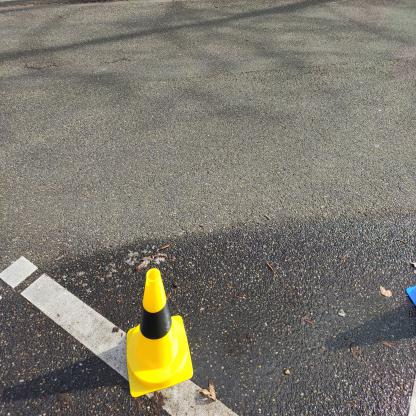Cones_small_yellow: (117, 257, 198, 399)
